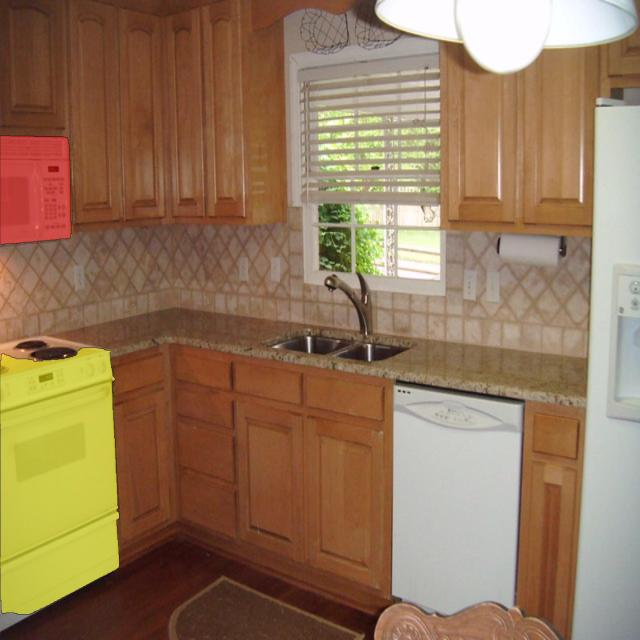dishwasher: (394, 380, 516, 607)
